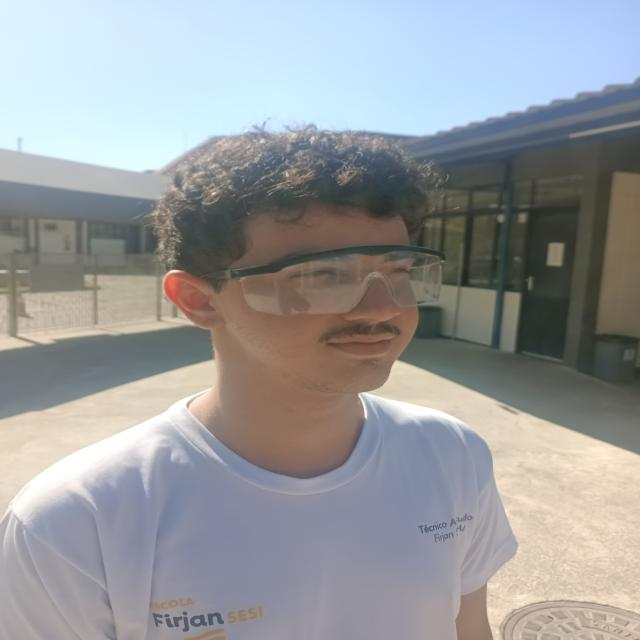oculos-epi: (203, 245, 441, 316)
